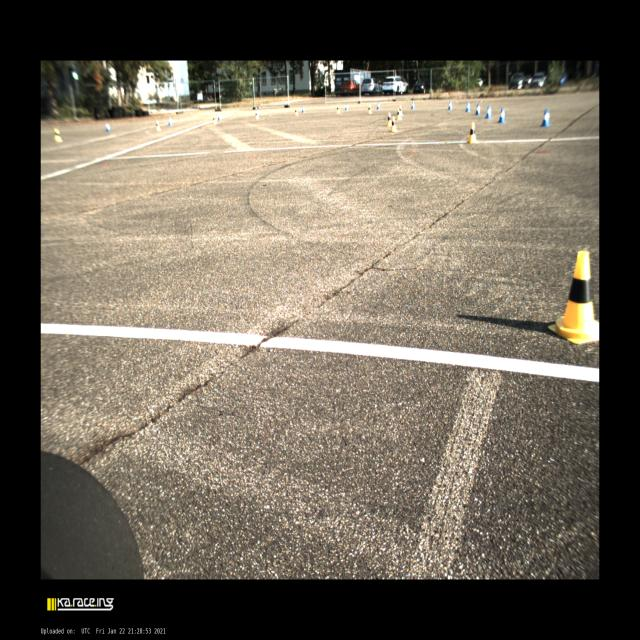blue_cone: (540, 109, 550, 127), (498, 108, 506, 123), (485, 105, 492, 119), (475, 104, 481, 115), (168, 117, 173, 126), (466, 102, 470, 112), (376, 102, 381, 110), (448, 101, 452, 110), (106, 123, 110, 132), (411, 101, 415, 109), (344, 102, 348, 110), (218, 112, 222, 120), (302, 105, 305, 113)
yellow_cone: (548, 250, 599, 344), (467, 122, 478, 143), (390, 116, 398, 132), (386, 112, 392, 126), (156, 120, 162, 132), (56, 130, 62, 142), (397, 108, 402, 120), (399, 105, 404, 116), (367, 105, 372, 114), (213, 115, 217, 125), (255, 112, 259, 119), (336, 105, 339, 113), (295, 108, 298, 116)
